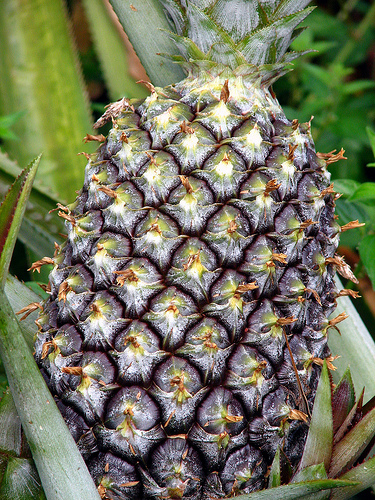pineapple: (26, 2, 348, 497)
